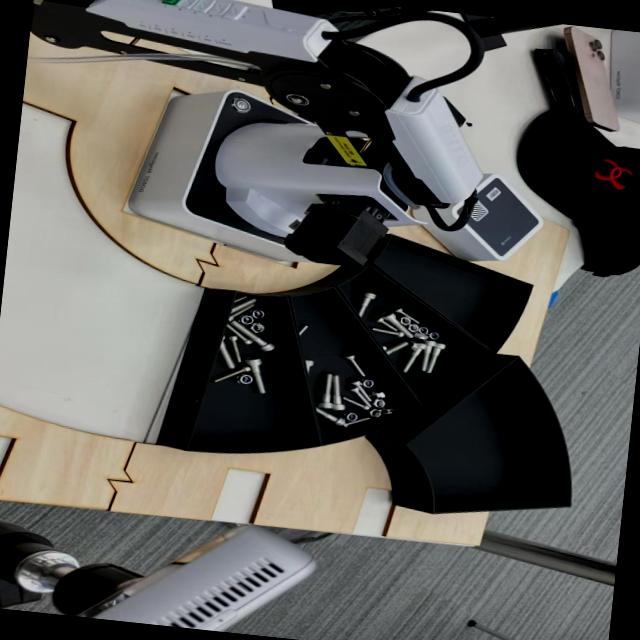big: (223, 313, 280, 359), (304, 401, 356, 436), (390, 334, 426, 376), (420, 337, 455, 380), (379, 307, 415, 342), (346, 286, 378, 322), (242, 355, 268, 397), (323, 372, 348, 415), (413, 338, 441, 375), (315, 370, 335, 409)
box: (316, 220, 504, 414), (266, 257, 429, 453), (155, 287, 322, 463), (344, 206, 539, 353)
circle: (234, 373, 255, 387), (234, 312, 255, 326), (248, 321, 267, 334), (426, 331, 443, 343), (249, 308, 266, 320), (342, 411, 360, 422), (369, 390, 388, 400), (358, 377, 373, 388), (366, 407, 381, 418), (404, 322, 419, 333), (397, 316, 412, 327), (370, 398, 385, 408), (416, 325, 430, 334)
small: (338, 348, 371, 385), (344, 372, 375, 407), (218, 319, 254, 349), (345, 384, 378, 413), (208, 364, 252, 385), (389, 302, 421, 329), (338, 392, 372, 416), (224, 300, 256, 323), (370, 313, 398, 337), (224, 332, 243, 366), (341, 412, 373, 429), (366, 325, 404, 339)
